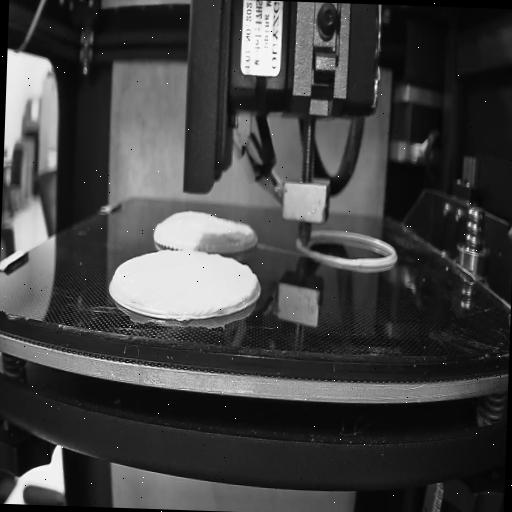over_extrusion: (242, 273, 260, 303)
